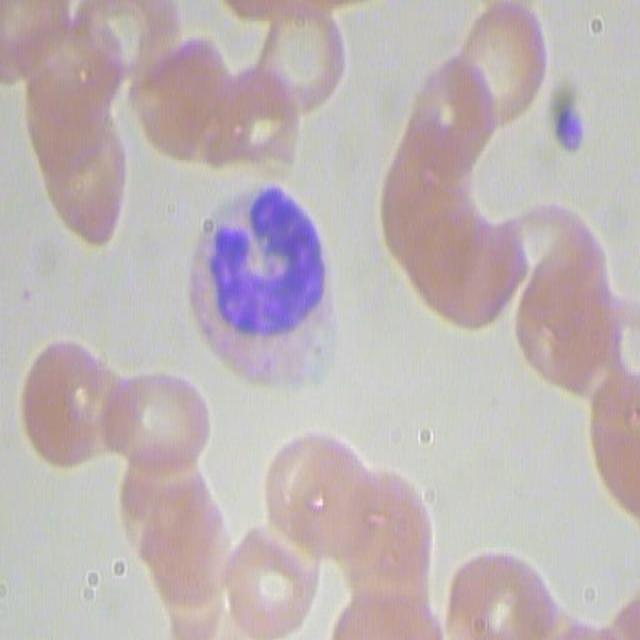RBC: (394, 141, 521, 339), (6, 1, 202, 121), (508, 197, 619, 398), (124, 457, 230, 635), (253, 428, 380, 562), (22, 336, 122, 472), (96, 368, 210, 480), (36, 112, 128, 245), (457, 0, 550, 123), (437, 547, 562, 638), (218, 528, 319, 635), (258, 0, 351, 115), (412, 56, 498, 166), (215, 68, 303, 175), (587, 371, 640, 518)
WBC: (194, 162, 340, 394)
